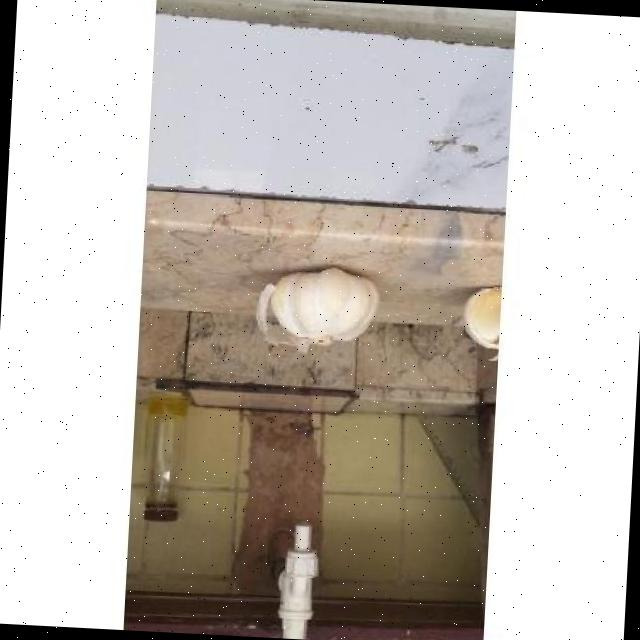garlic: (255, 267, 379, 351), (463, 287, 501, 348)
